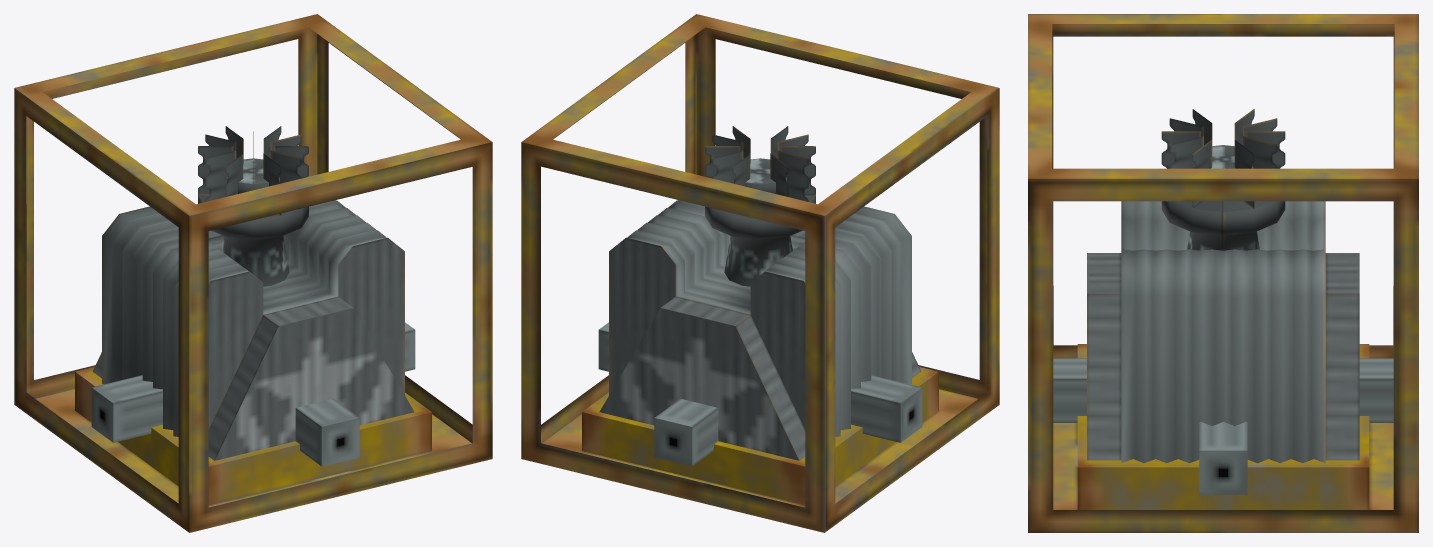
The model's file is rtgrc.obj.
3 views of the same model, side by side, from view 1: azimuth 30°, elevation 25°; view 2: azimuth 150°, elevation 25°; view 3: azimuth 270°, elevation 25° (orthographic). The views are drawn at different scales.
Parts seen in each view (by area): view 1: Cube.001_Cube.002; view 2: Cube.001_Cube.002; view 3: Cube.001_Cube.002.
Boxes of the visible parts, box(x1,y1,x2,y2) form: Cube.001_Cube.002: box(14, 14, 492, 532); Cube.001_Cube.002: box(521, 14, 999, 532); Cube.001_Cube.002: box(1028, 14, 1418, 532).
Size of the model in its own units: 3.01 by 3.01 by 3.01.
